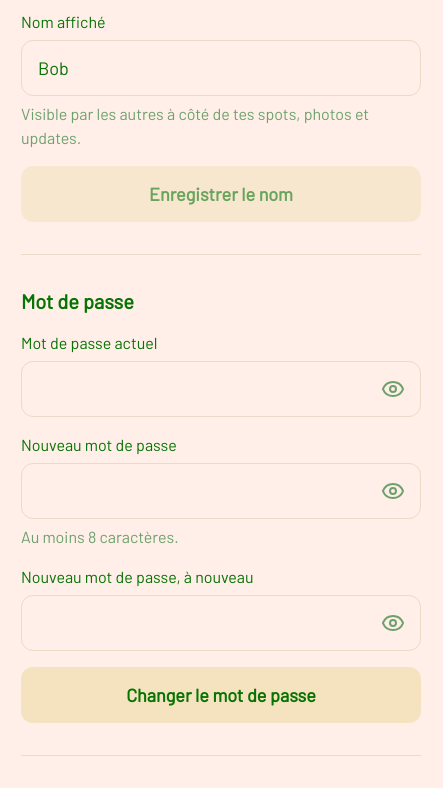
Test: AccountScreen › refuse deux saisies différentes sans appeler Supabase
(page scrolled)
Type "ancien-mdp" into the password field labelled "Mot de passe actuel".
click(221, 389); type("ancien-mdp")  # box [21,361,421,417]
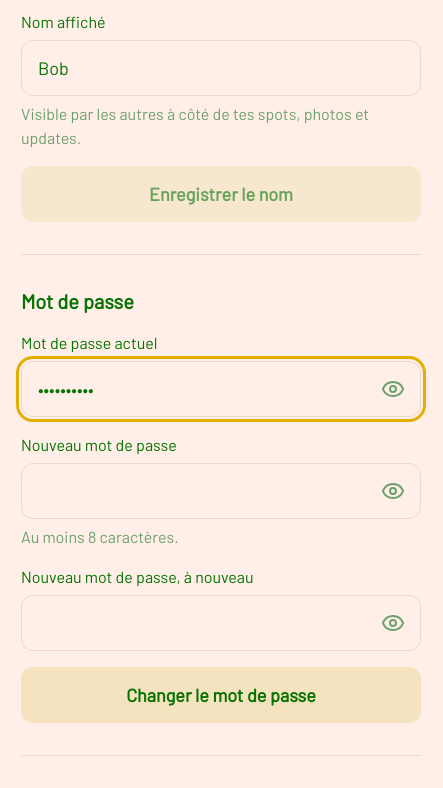
Type "nouveau-mdp" into the password field labelled "Nouveau mot de passe".
click(221, 491); type("nouveau-mdp")  # box [21,463,421,519]
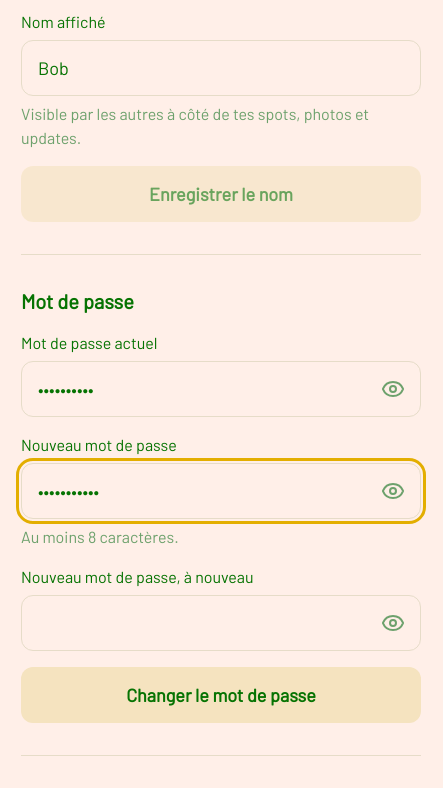
Type "nouveau-mdq" into the password field labelled "Nouveau mot de passe, à nouveau".
click(221, 623); type("nouveau-mdq")  # box [21,595,421,651]
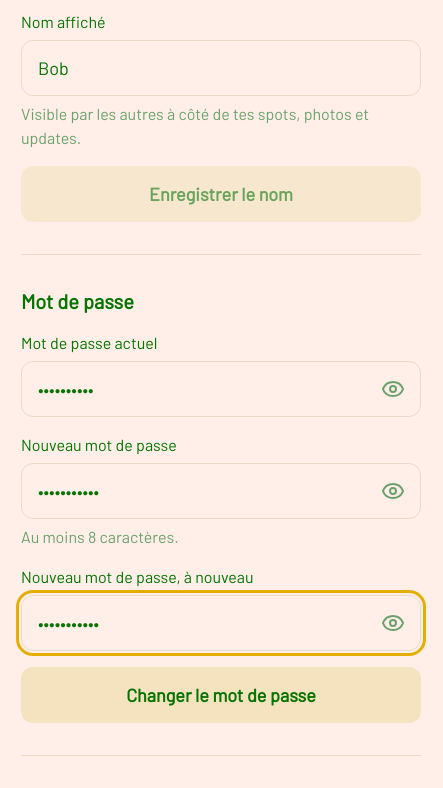
Click the button "Changer le mot de passe".
click(221, 695)  # box [21,667,421,723]
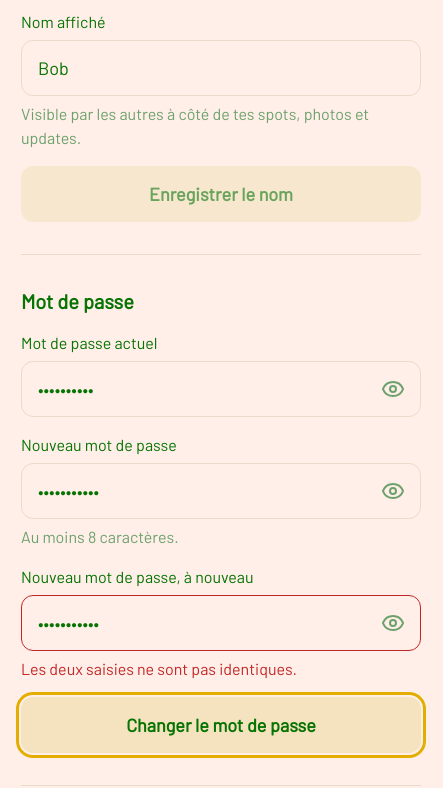
Expected: the text "Les deux saisies ne sont pas identiques." is shown, [21,659,297,678]
